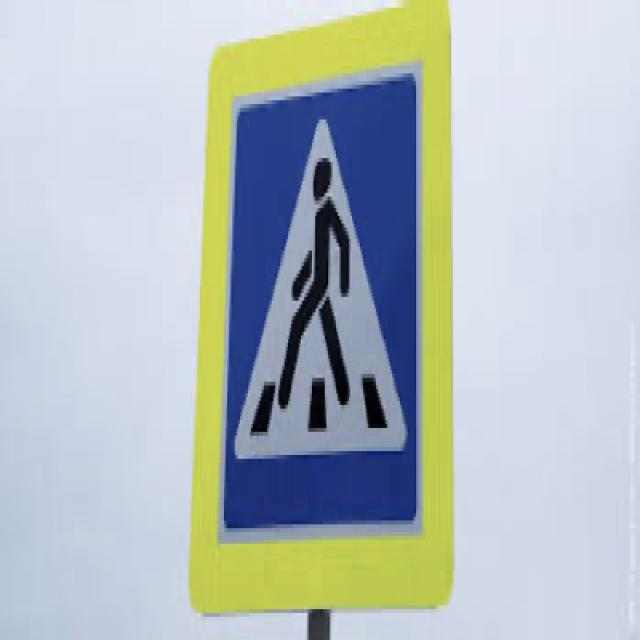crosswalk: (218, 61, 420, 544)
